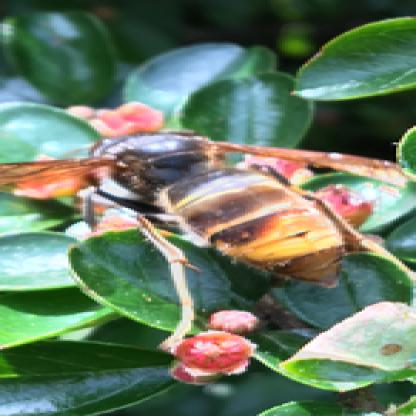Asian Hornet: (3, 124, 413, 294)
